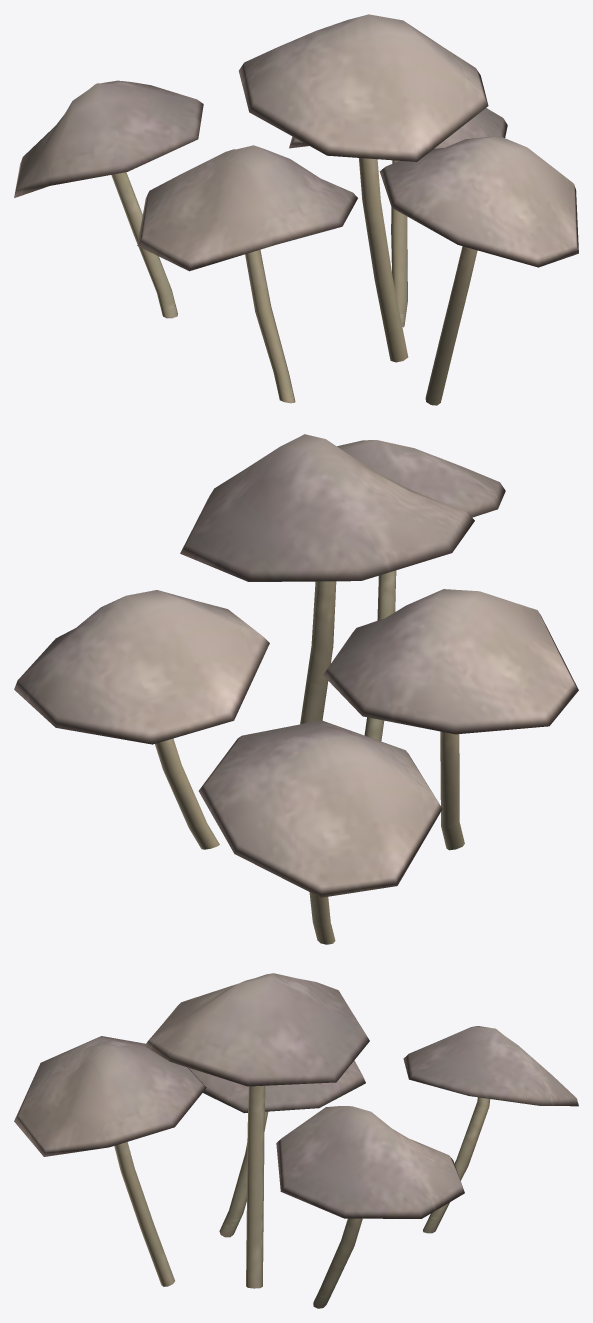
Rendered from mushroom.glb.
3 renders of one model, top to bottom at view 1: azimuth 30°, elevation 25°; view 2: azimuth 150°, elevation 25°; view 3: azimuth 270°, elevation 25°, orthographic. The views are drawn at different scales.
Parts seen in each view (by area): view 1: mushroom; view 2: mushroom; view 3: mushroom.
Part boxes in pixels (x1,y1,x2,y2): mushroom: (14,14,578,405); mushroom: (14,434,578,944); mushroom: (14,973,578,1308).
Bounding box in the file's own units: 0.5637 × 0.4635 × 0.7791.
1 material, 1 textured.
